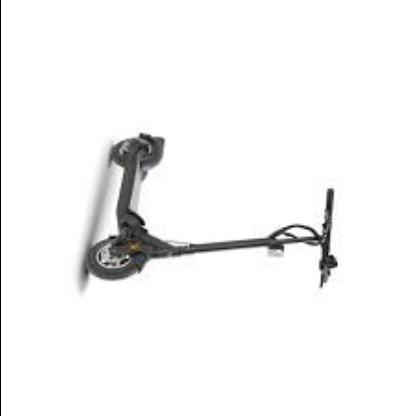bike: (81, 131, 340, 288)
